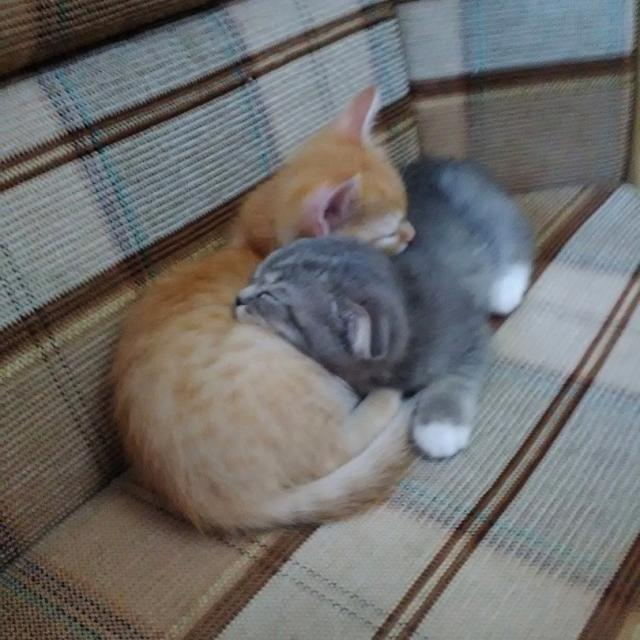da khoe manh: (152, 355, 302, 465), (365, 277, 471, 374)
